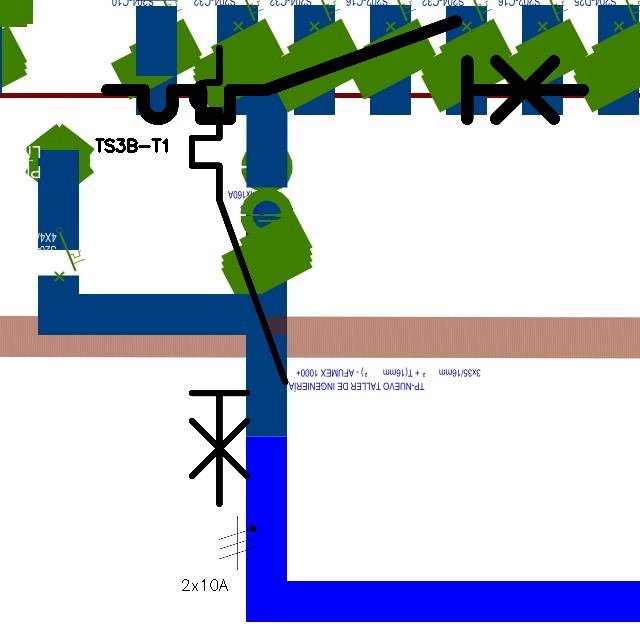interruptor_termomagnetico: (95, 9, 595, 131), (180, 36, 297, 516)
